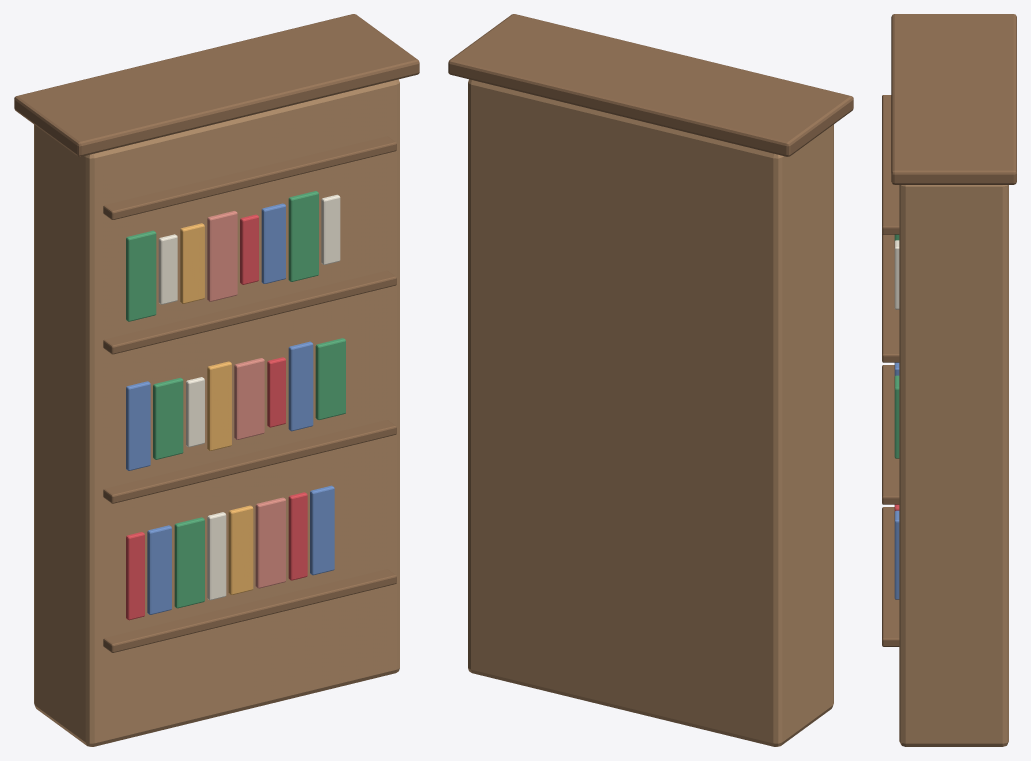
File: Bookshelf.fbx
The picture shows the model from 3 angles, left to right: view 1: azimuth 30°, elevation 25°; view 2: azimuth 150°, elevation 25°; view 3: azimuth 270°, elevation 25°; orthographic projection. The views are drawn at different scales.
Visible parts, largest first — view 1: Bookshelf; view 2: Bookshelf; view 3: Bookshelf.
Boxes of the visible parts, x1=… form: Bookshelf: x1=14, y1=14, x2=419, y2=746; Bookshelf: x1=448, y1=14, x2=853, y2=746; Bookshelf: x1=882, y1=14, x2=1016, y2=746.
Bounding box in the file's own units: 120 × 205 × 43.
